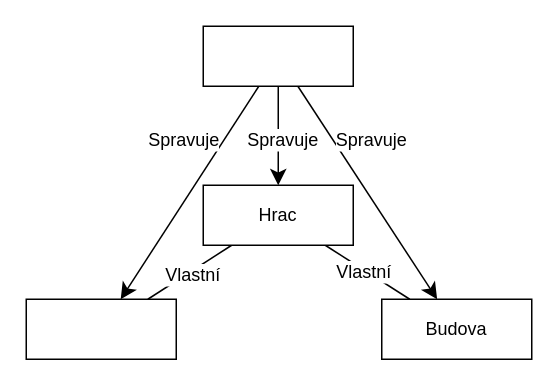
The diagram is 558 pixels wide and 386 high, and some of its shapes have lost their labels. The box of each missing label's shape, as (x1, y1, x2, y2) in pixels:
Jednotka: (25, 298, 176, 359)
SpravceHry: (202, 25, 353, 86)
